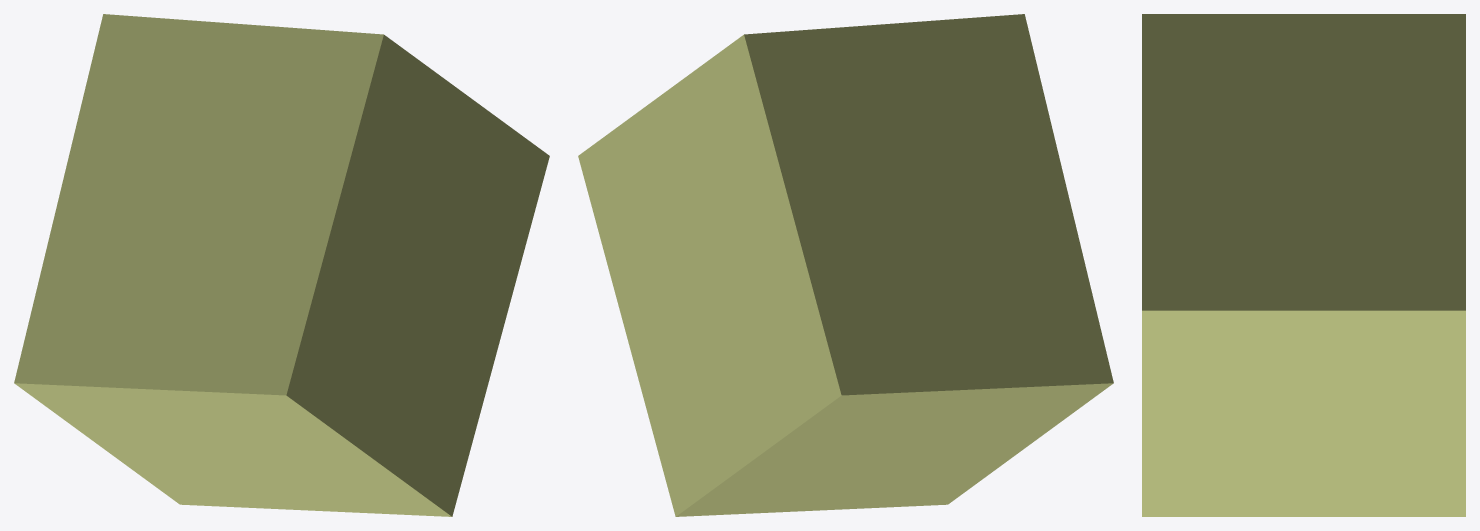
The picture shows the model from 3 angles, left to right: view 1: azimuth 30°, elevation 25°; view 2: azimuth 150°, elevation 25°; view 3: azimuth 270°, elevation 25°; orthographic projection. The views are drawn at different scales.
Parts seen in each view (by area): view 1: 0_0_1_3_2_2_3_3_1_2; view 2: 0_0_1_3_2_2_3_3_1_2; view 3: 0_0_1_3_2_2_3_3_1_2.
Part boxes in pixels (x1,y1,x2,y2): 0_0_1_3_2_2_3_3_1_2: (14, 14, 549, 516); 0_0_1_3_2_2_3_3_1_2: (578, 14, 1113, 516); 0_0_1_3_2_2_3_3_1_2: (1142, 14, 1465, 516).
Bounding box in the file's own units: 7.72 × 8.5 × 6.
